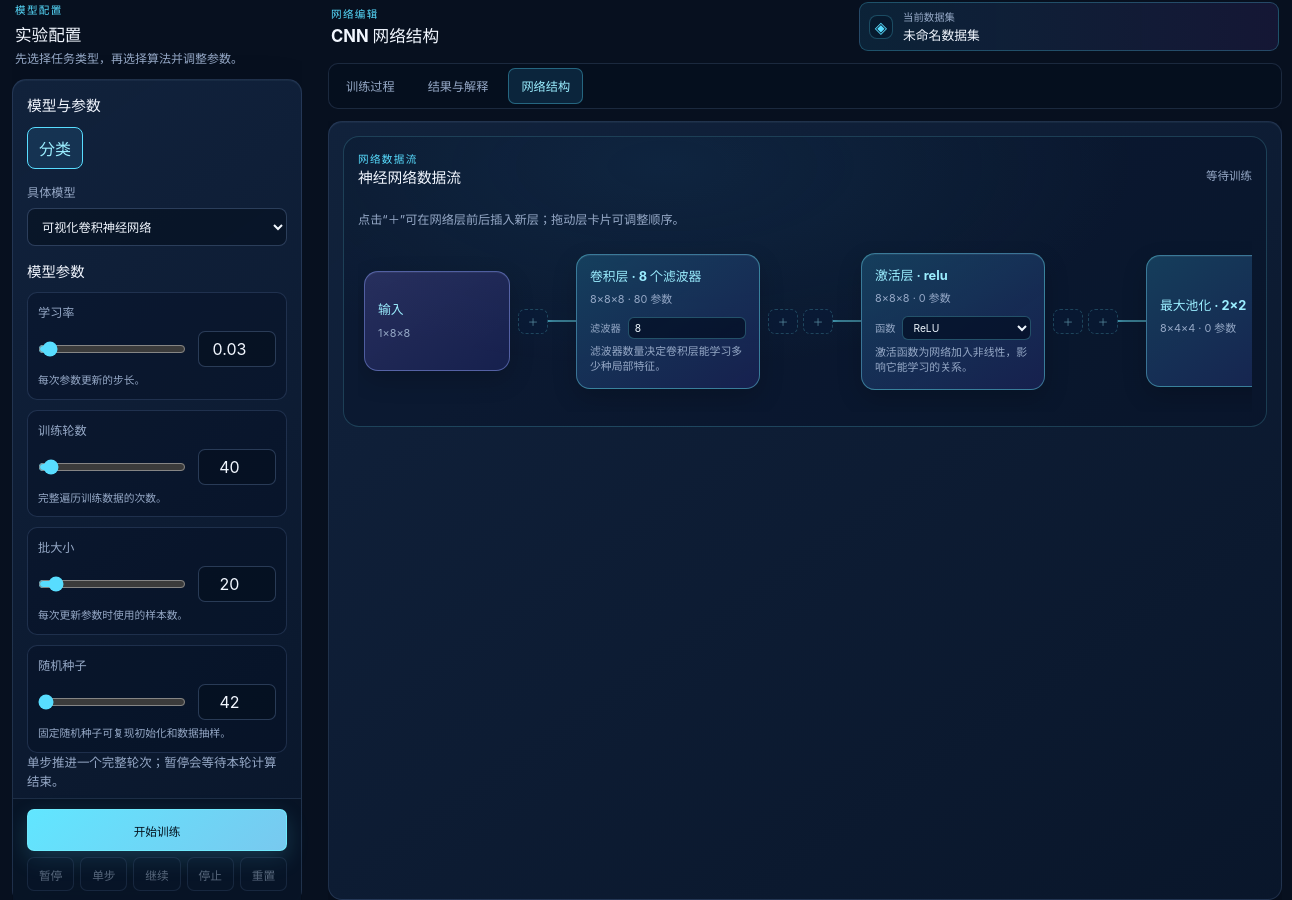
Test case: 单页训练工作台 › CNN 默认显示空训练画布，并可在独立页签编辑网络结构
Expected: the element labelled "神经网络数据流" is shown, [343,136,1267,427]
Click the tab "训练过程" at (370, 86), box [333,68,408,104]
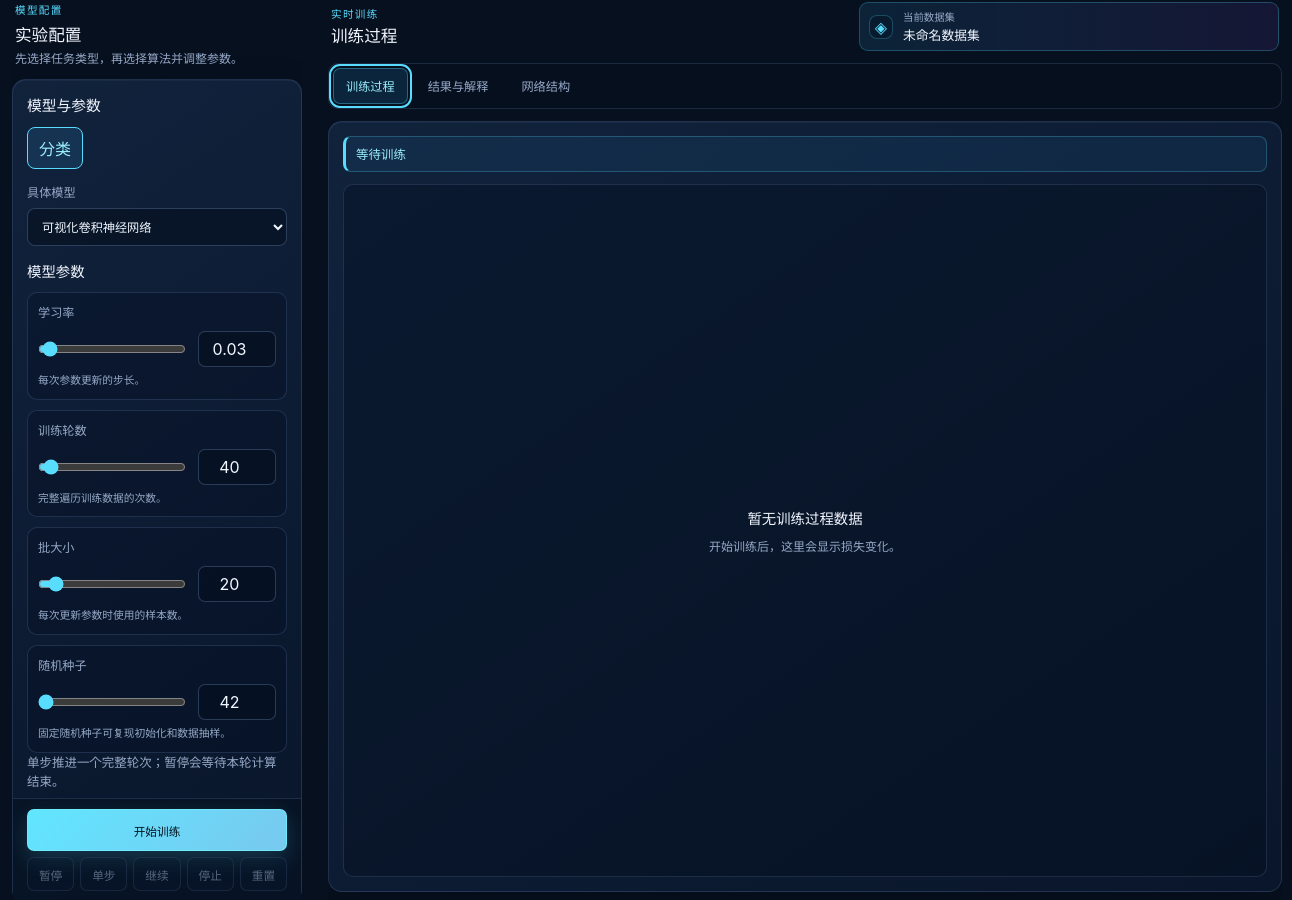
Now the text "开始训练后，这里会显示损失变化。" is shown, box [709,537,901,554]
Now the heading labelled "神经网络数据流" is gone
Click the tab "网络结构" at (546, 86), box [508,68,583,104]
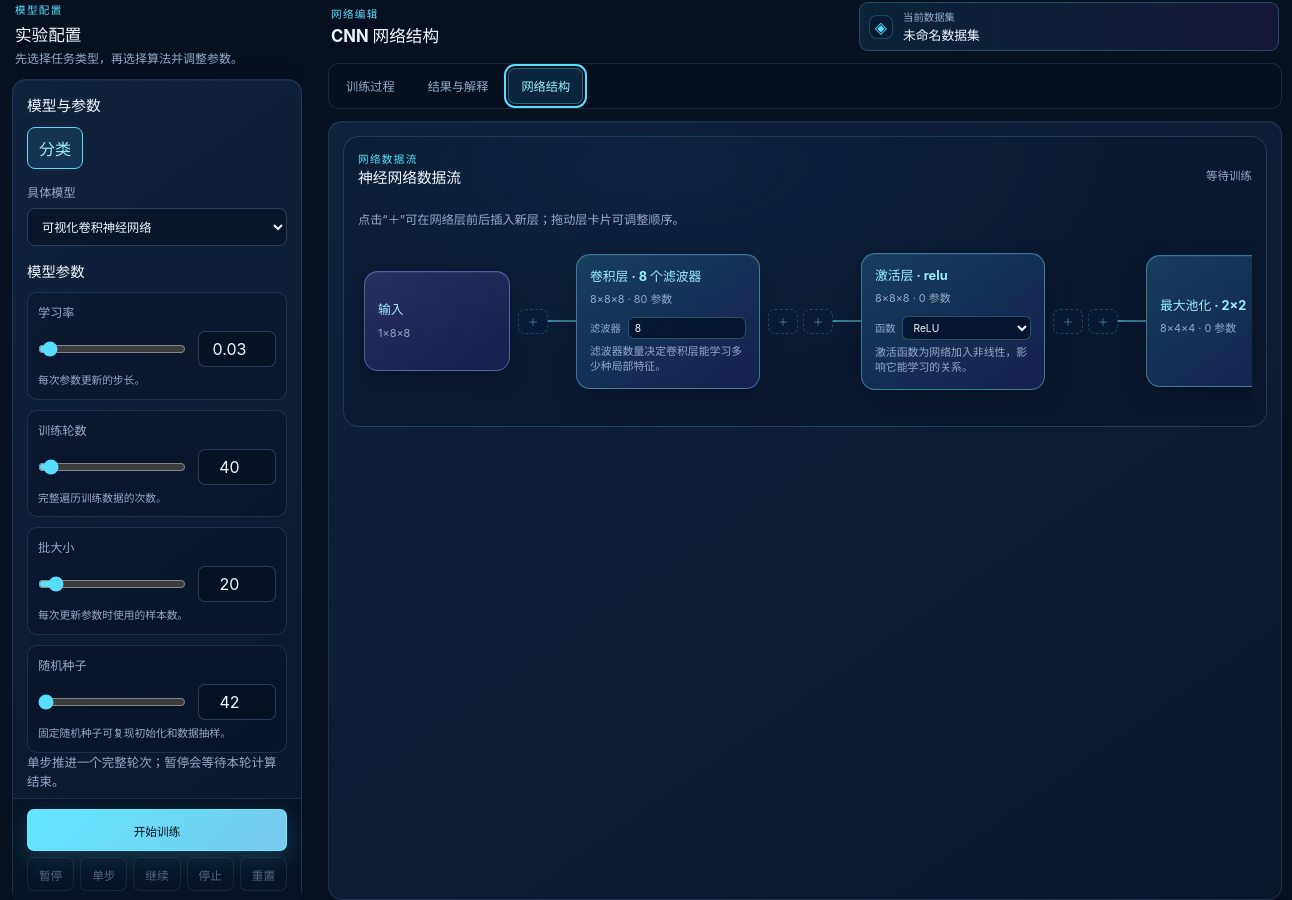
Now the heading "CNN 网络结构" is shown, box [331,23,439,47]
Now the element labelled "神经网络数据流" is shown, box [343,136,1267,427]
Now the 4th button "＋" is shown, box [1053,309,1083,334]
